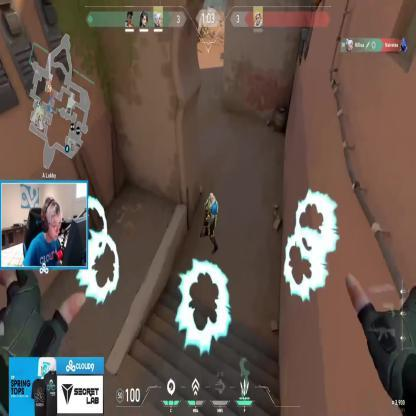enemy: (201, 191, 219, 255)
enemy_head: (209, 194, 214, 204)
